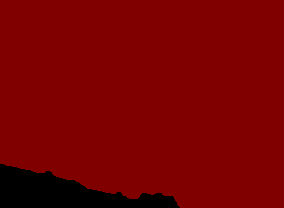Sky: (1, 1, 283, 207)
